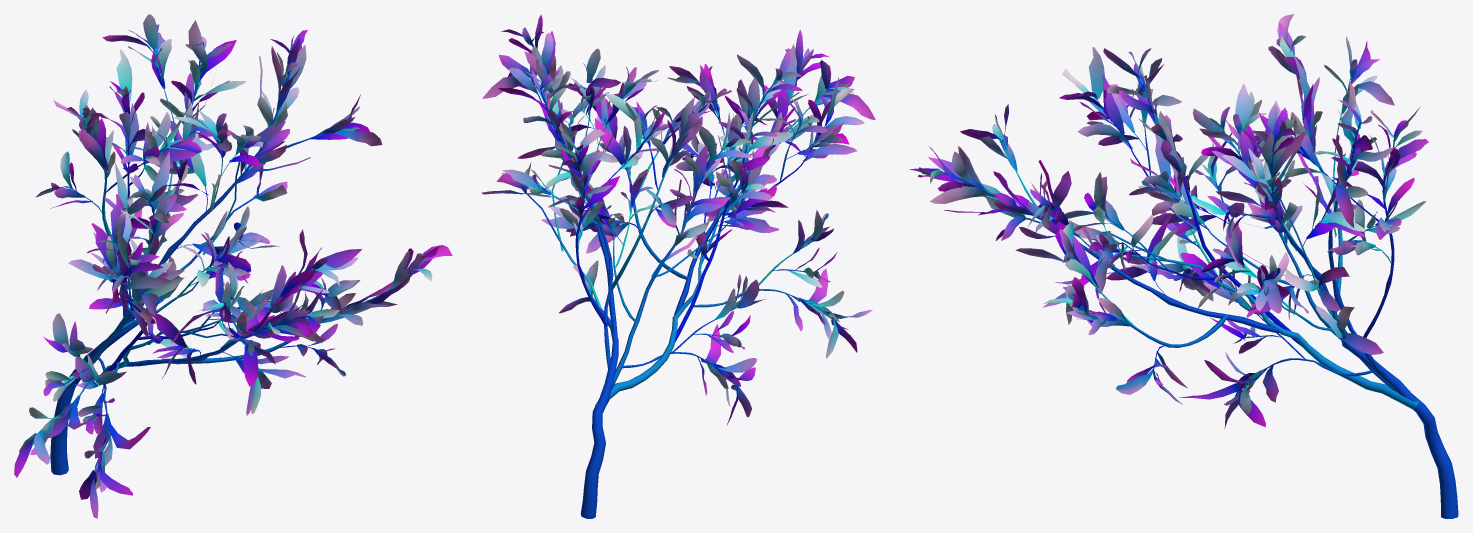
The model's file is Downy_Willow_wknlfiuqx_Mid_wknlfiuqx_VarB_LOD0.fbx.
3 views of the same model, side by side, from view 1: azimuth 30°, elevation 25°; view 2: azimuth 150°, elevation 25°; view 3: azimuth 270°, elevation 25° (orthographic). The views are drawn at different scales.
Parts seen in each view (by area): view 1: _2r8g_VarB_LOD1; view 2: _2r8g_VarB_LOD1; view 3: _2r8g_VarB_LOD1.
Boxes of the visible parts, box(x1,y1,x2,y2) form: _2r8g_VarB_LOD1: box(14, 14, 452, 518); _2r8g_VarB_LOD1: box(481, 14, 875, 518); _2r8g_VarB_LOD1: box(908, 14, 1458, 518).
Size of the model in its own units: 77.77 by 90.74 by 90.93.
